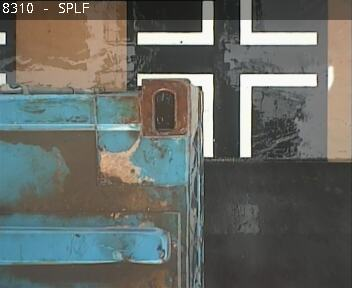groundmarker_1: (136, 73, 318, 158), (136, 1, 316, 45)
